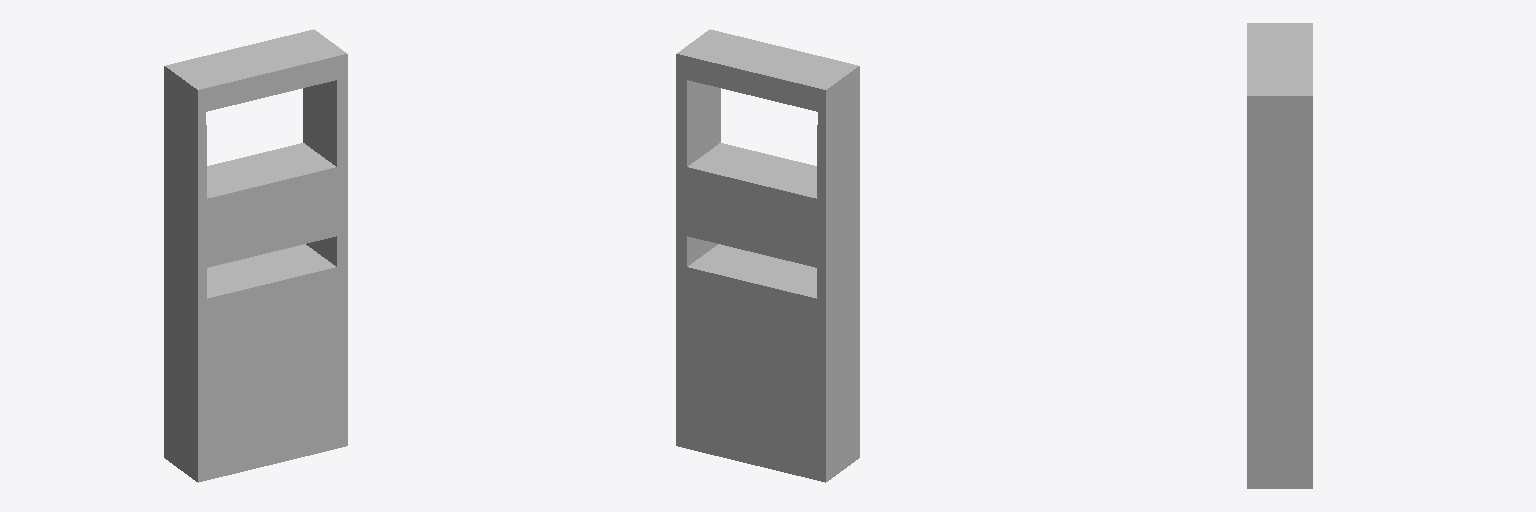
Rendered from gas2.obj.
3 views of the same model, side by side, from view 1: azimuth 30°, elevation 25°; view 2: azimuth 150°, elevation 25°; view 3: azimuth 270°, elevation 25° (orthographic).
Parts seen in each view (by area): view 1: Fuel_pump_; view 2: Fuel_pump_; view 3: Fuel_pump_.
Part boxes in pixels (left/top/right/bottom): Fuel_pump_: left=164, top=29, right=347, bottom=482; Fuel_pump_: left=676, top=29, right=859, bottom=482; Fuel_pump_: left=1247, top=23, right=1312, bottom=488.
Size of the model in its own units: 112 by 281 by 43.31.